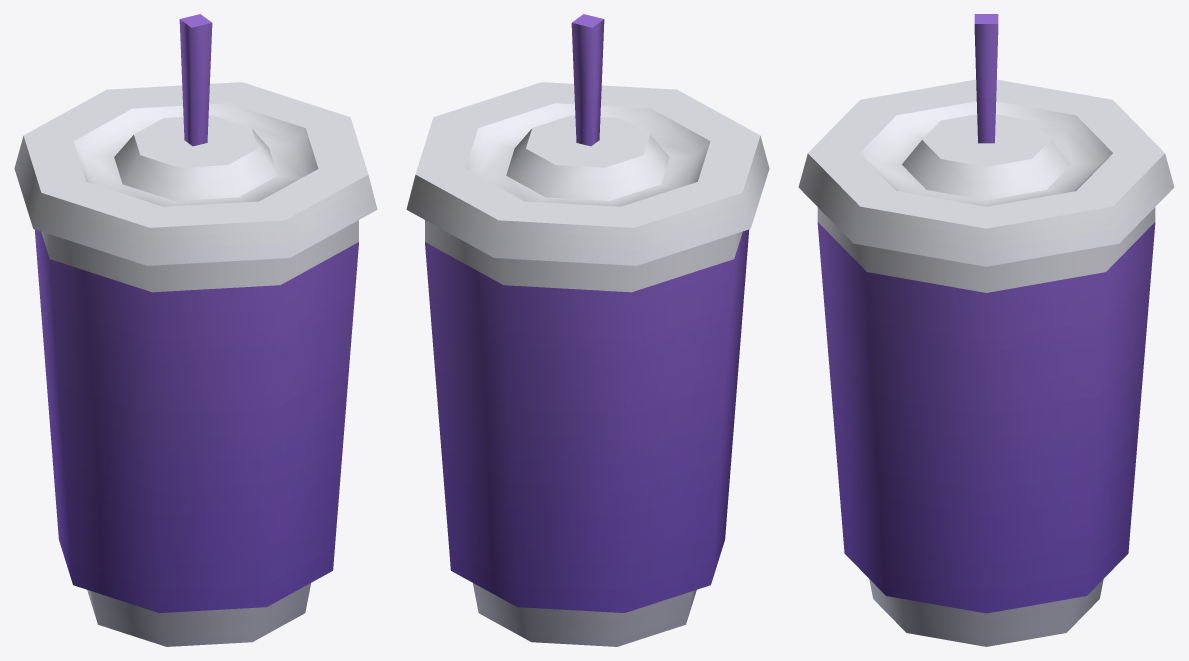
File: food.soda.glb
3 views of the same model, side by side, from view 1: azimuth 30°, elevation 25°; view 2: azimuth 150°, elevation 25°; view 3: azimuth 270°, elevation 25° (orthographic).
Visible parts, largest first — view 1: soda; view 2: soda; view 3: soda.
Part boxes in pixels (bbox=[...]): soda: bbox=[14, 14, 377, 646]; soda: bbox=[406, 14, 769, 646]; soda: bbox=[798, 14, 1174, 646].
Size of the model in its own units: 0.0755 by 0.1284 by 0.0755.
1 material, 1 textured.
